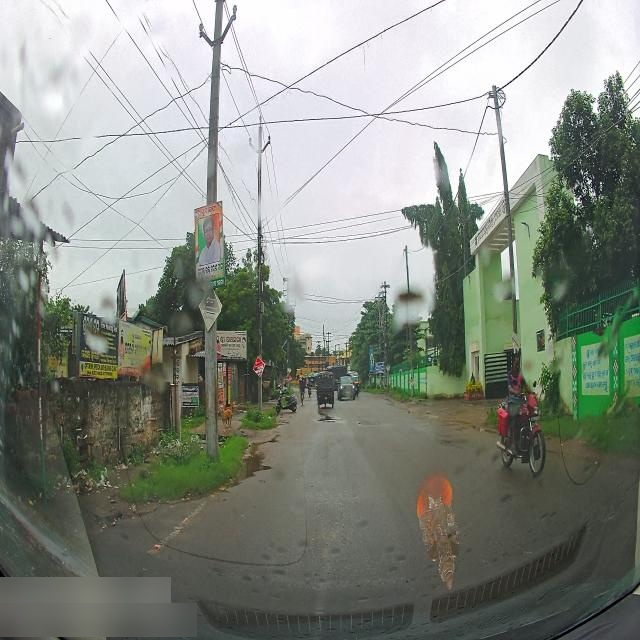pothole: (234, 431, 298, 495)
